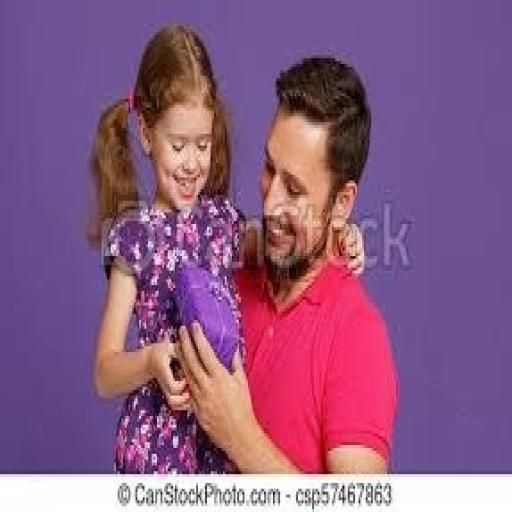hugging: (86, 20, 400, 474)
